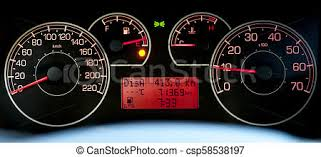Digital_Meter: (150, 86, 196, 110)
